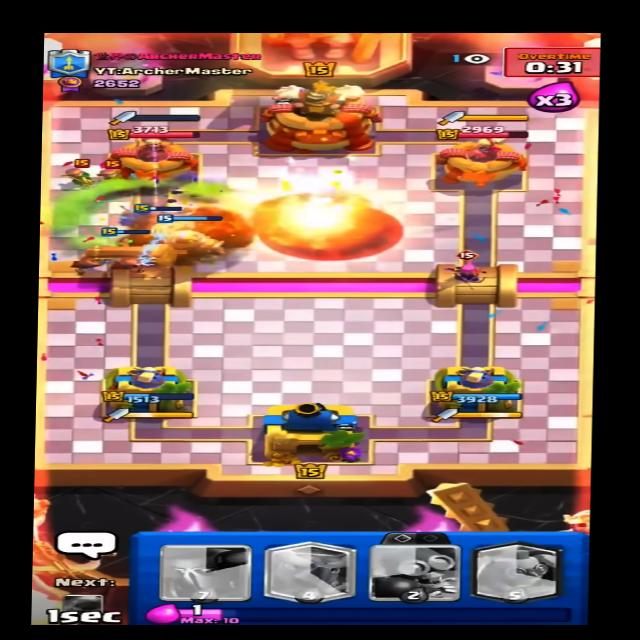Archer: (62, 158, 98, 186), (99, 158, 130, 182)
Evoarchers: (443, 252, 487, 284)
